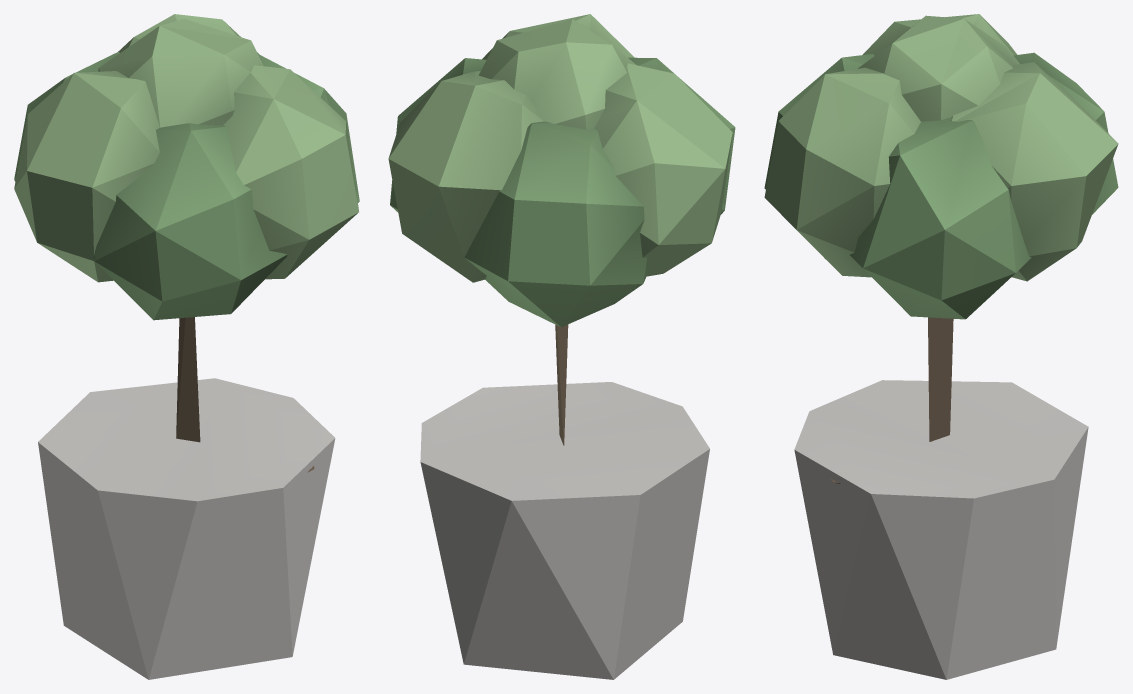
File: furn_plant_pot__white_low.glb
The picture shows the model from 3 angles, left to right: view 1: azimuth 30°, elevation 25°; view 2: azimuth 150°, elevation 25°; view 3: azimuth 270°, elevation 25°; orthographic projection.
Size of the model in its own units: 0.6393 by 1.14 by 0.6038.
